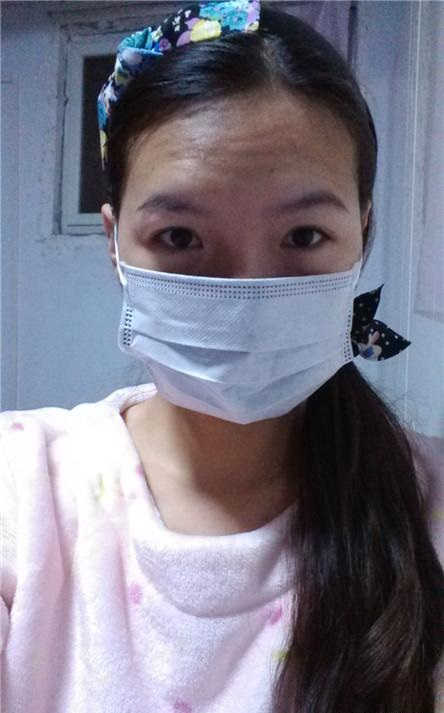face_mask: (121, 91, 352, 424)
